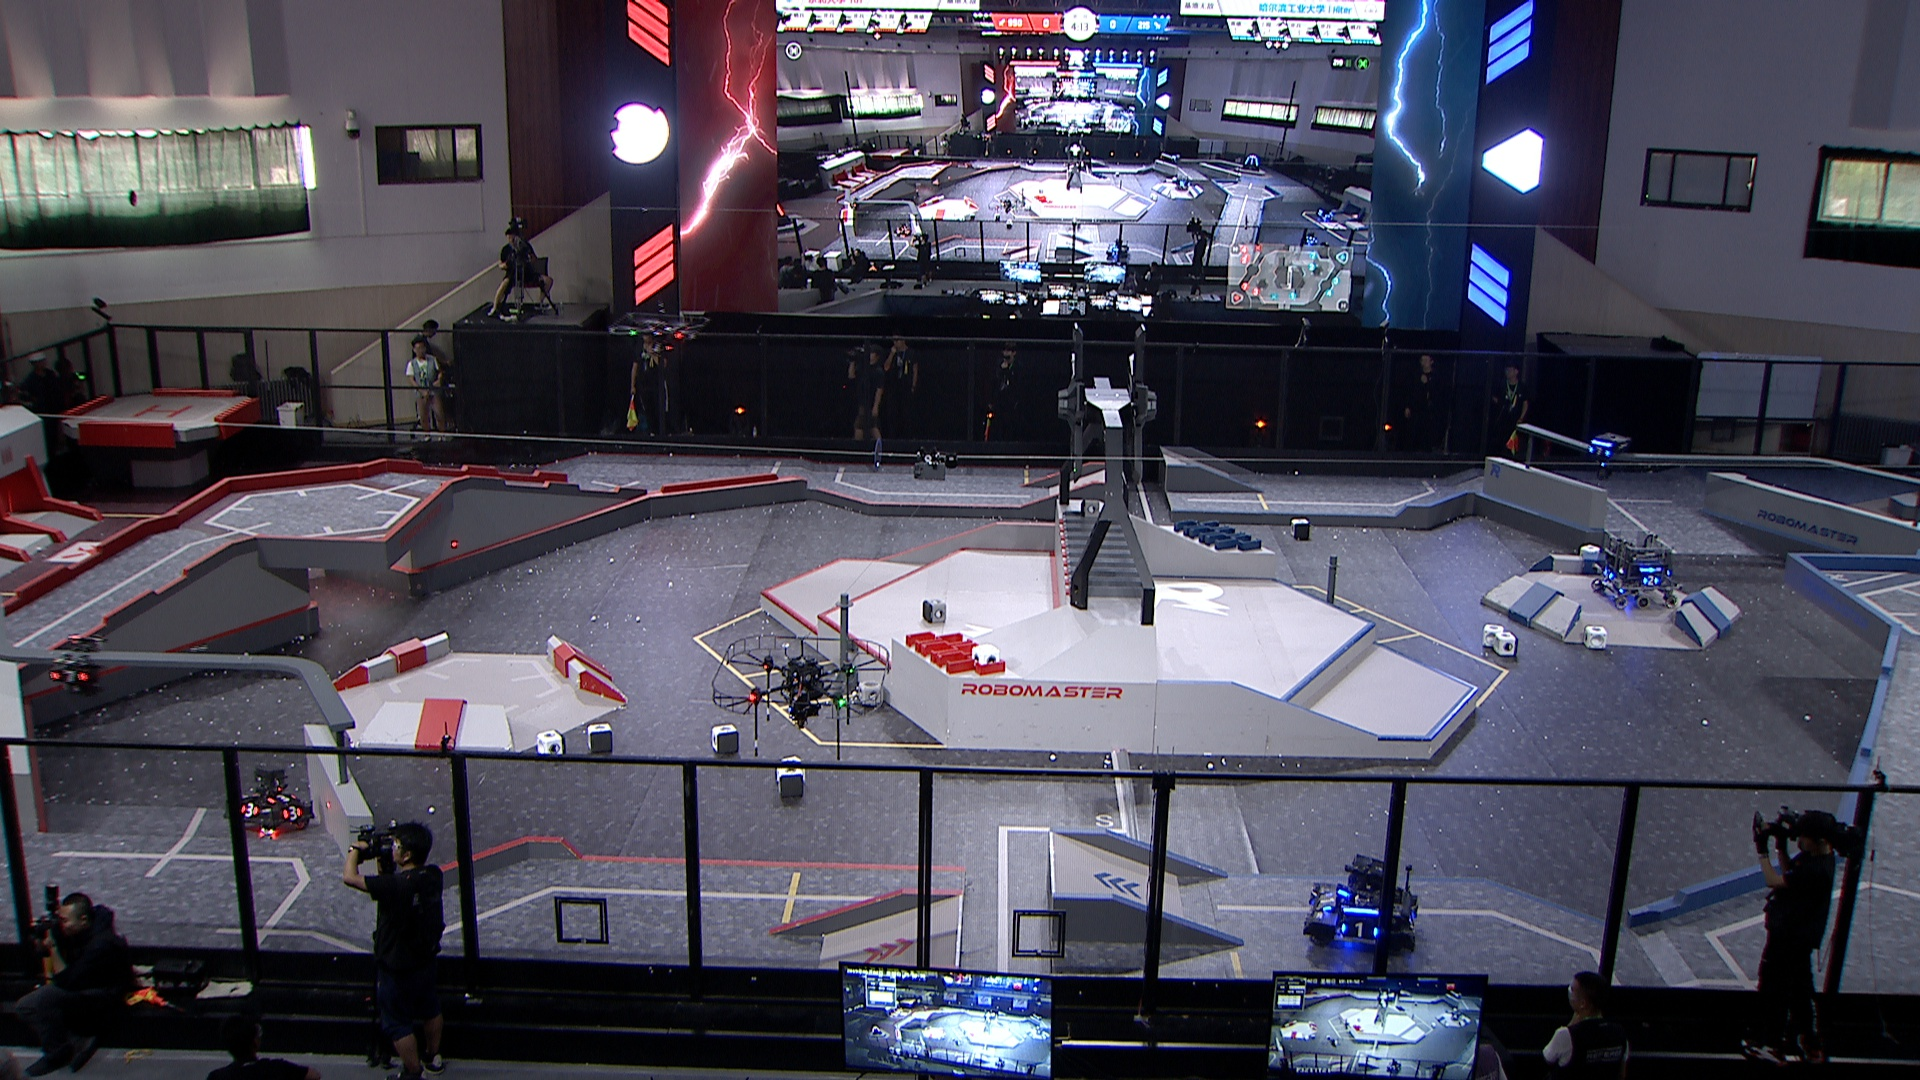armor: (1340, 920, 1381, 942), (49, 669, 90, 684), (280, 806, 305, 823), (1317, 891, 1337, 913), (266, 793, 301, 804), (237, 802, 258, 820), (1404, 910, 1419, 936), (1588, 446, 1611, 458), (1640, 575, 1660, 588), (1604, 567, 1617, 582)
car: (1302, 853, 1420, 953), (1590, 527, 1685, 611), (223, 761, 318, 836)
ignore: (1106, 239, 1129, 262), (775, 202, 794, 229), (1244, 153, 1261, 173), (1316, 206, 1335, 223), (893, 222, 913, 237), (1174, 174, 1191, 191), (1304, 232, 1321, 247), (1171, 154, 1183, 167)
watcher: (46, 636, 105, 698), (1588, 433, 1629, 479)
